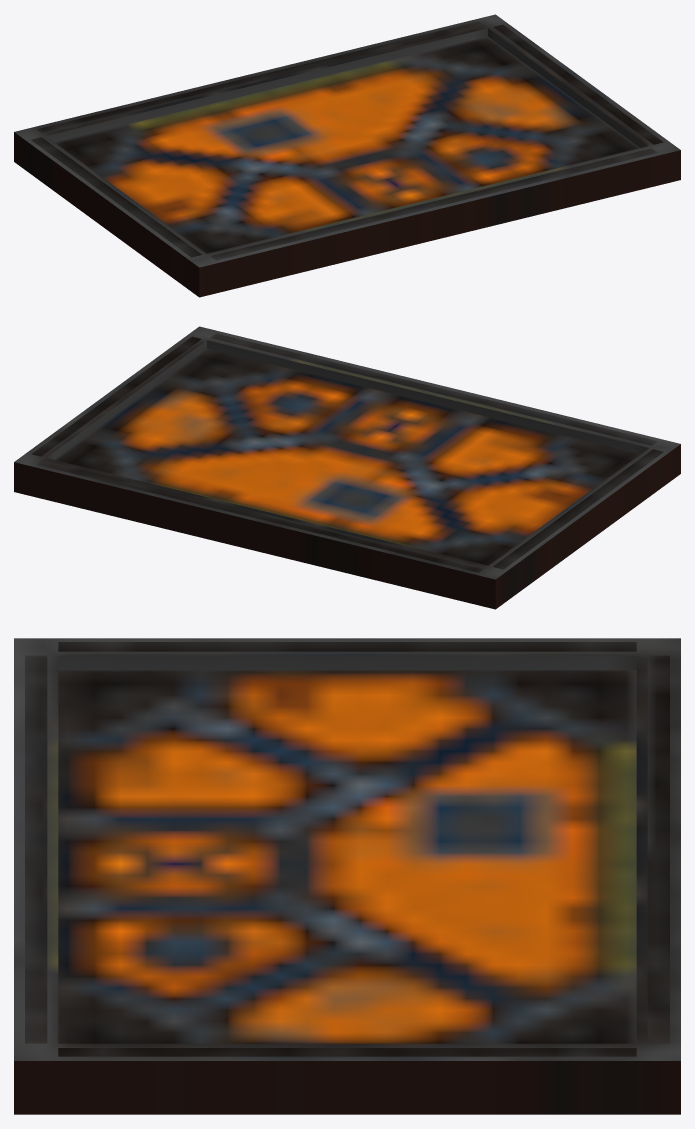
Rendered from Panel_08.FBX.
3 views of the same model, one above another, from view 1: azimuth 30°, elevation 25°; view 2: azimuth 150°, elevation 25°; view 3: azimuth 270°, elevation 25° (orthographic). The views are drawn at different scales.
Visible parts, largest first — view 1: Panel_08; view 2: Panel_08; view 3: Panel_08.
Part boxes in pixels (box(x1,y1,x2,y2)): Panel_08: box(14, 14, 680, 297); Panel_08: box(14, 326, 680, 609); Panel_08: box(14, 638, 680, 1114).
Size of the model in its own units: 150 by 8.9 by 100.
